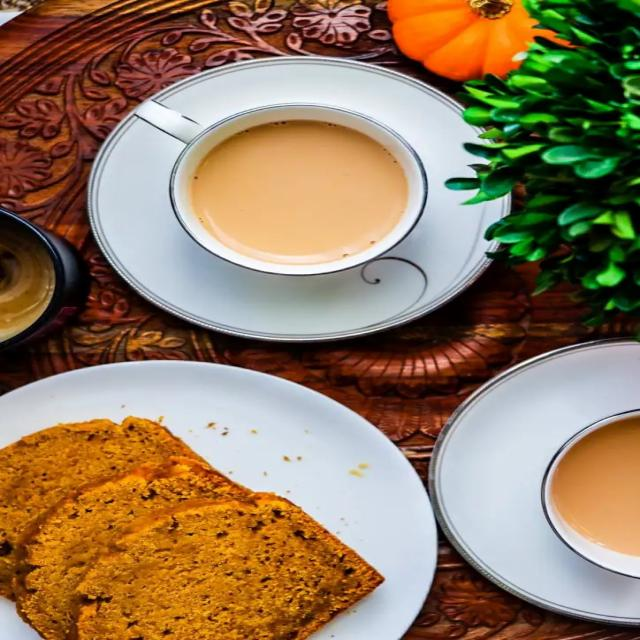Chai: (184, 125, 411, 256), (552, 422, 640, 574)
